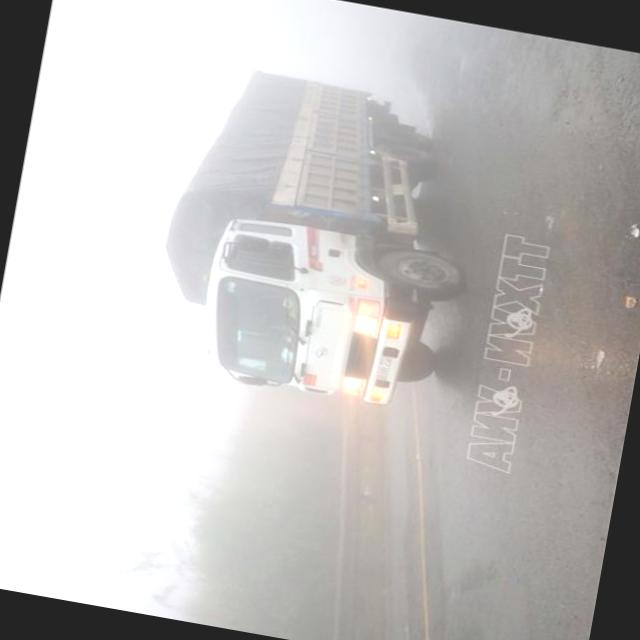Truck: (132, 49, 499, 422)
